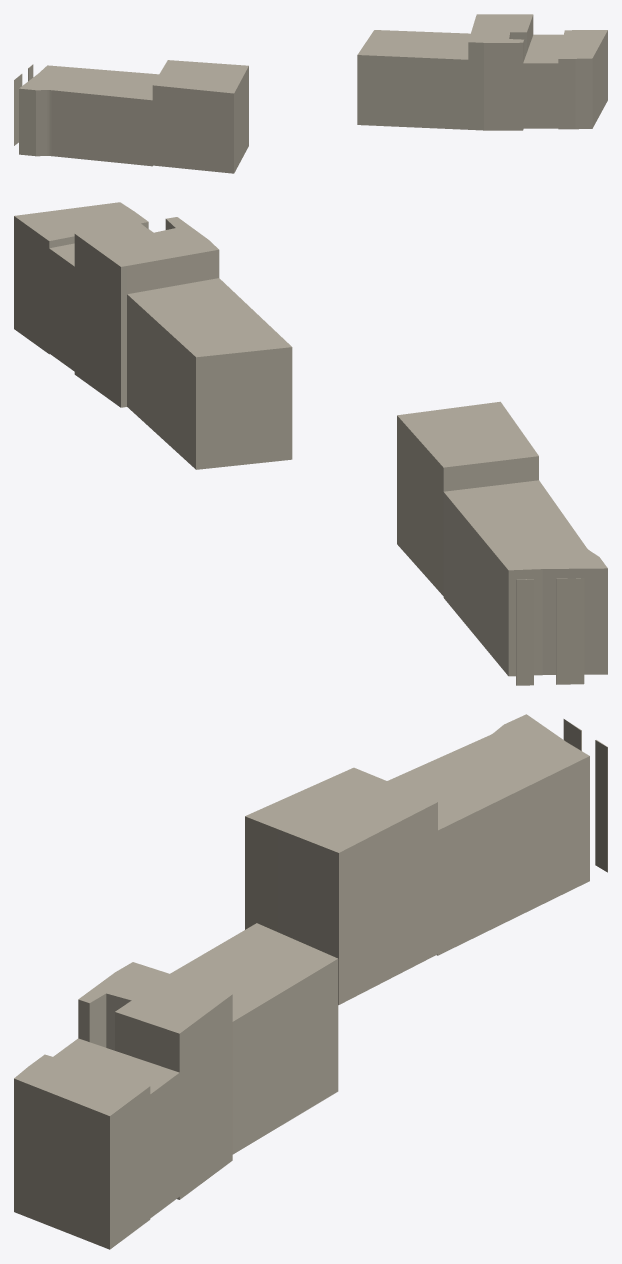
File: birgu_57_24_far.glb
3 views of the same model, one above another, from view 1: azimuth 30°, elevation 25°; view 2: azimuth 150°, elevation 25°; view 3: azimuth 270°, elevation 25° (orthographic). The views are drawn at different scales.
Parts seen in each view (by area): view 1: geometry_0; view 2: geometry_0; view 3: geometry_0.
Boxes of the visible parts, bbox=[...] form: geometry_0: bbox=[14, 14, 607, 173]; geometry_0: bbox=[14, 202, 607, 685]; geometry_0: bbox=[14, 714, 607, 1249].
Size of the model in its own units: 80.03 by 16.6 by 45.27.
